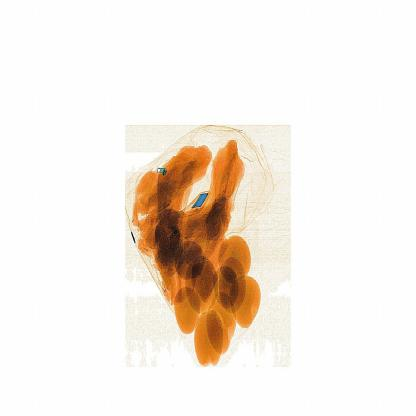pliers: (172, 180, 220, 218)
